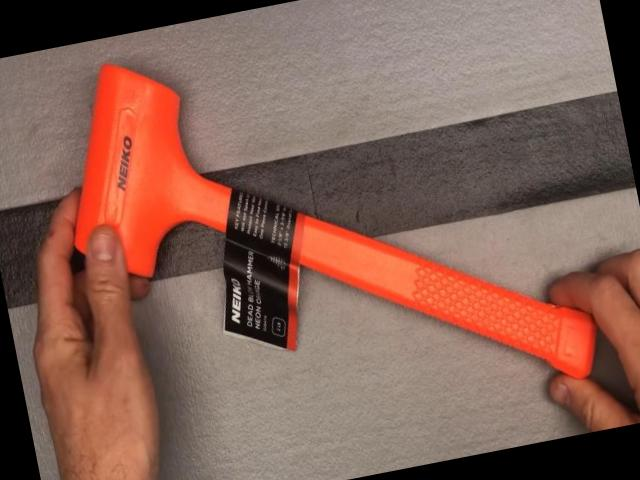hammer: (40, 0, 604, 467)
